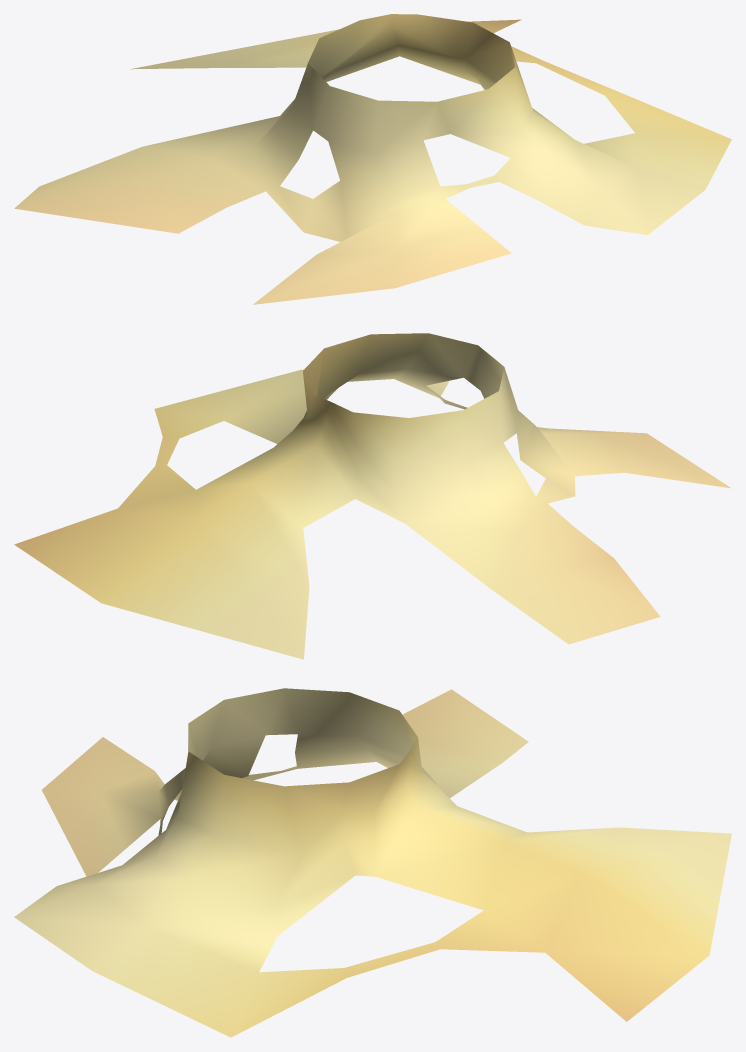
Rendered from Egg_Web.fbx.
The picture shows the model from 3 angles, top to bottom: view 1: azimuth 30°, elevation 25°; view 2: azimuth 150°, elevation 25°; view 3: azimuth 270°, elevation 25°; orthographic projection. The views are drawn at different scales.
Parts seen in each view (by area): view 1: Egg_Web; view 2: Egg_Web; view 3: Egg_Web.
Part boxes in pixels (x1=…): Egg_Web: x1=14, y1=14, x2=731, y2=304; Egg_Web: x1=14, y1=333, x2=730, y2=659; Egg_Web: x1=14, y1=688, x2=731, y2=1037.
Bounding box in the file's own units: 6.36 × 1.36 × 5.71.
